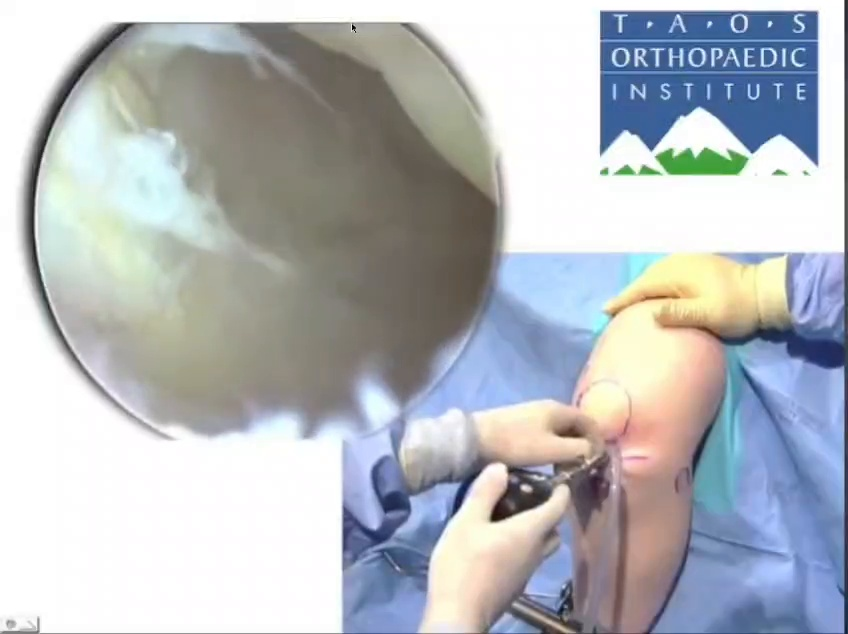probe: (736, 358, 807, 473)
